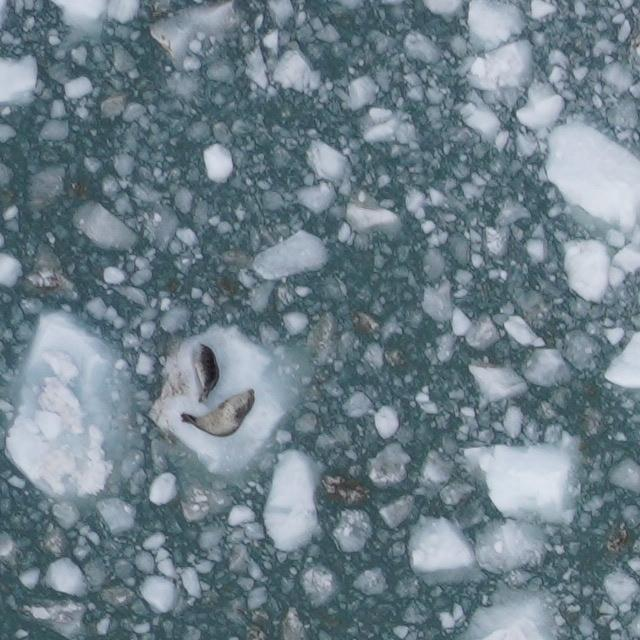seal: (178, 386, 259, 440), (189, 339, 224, 406)
